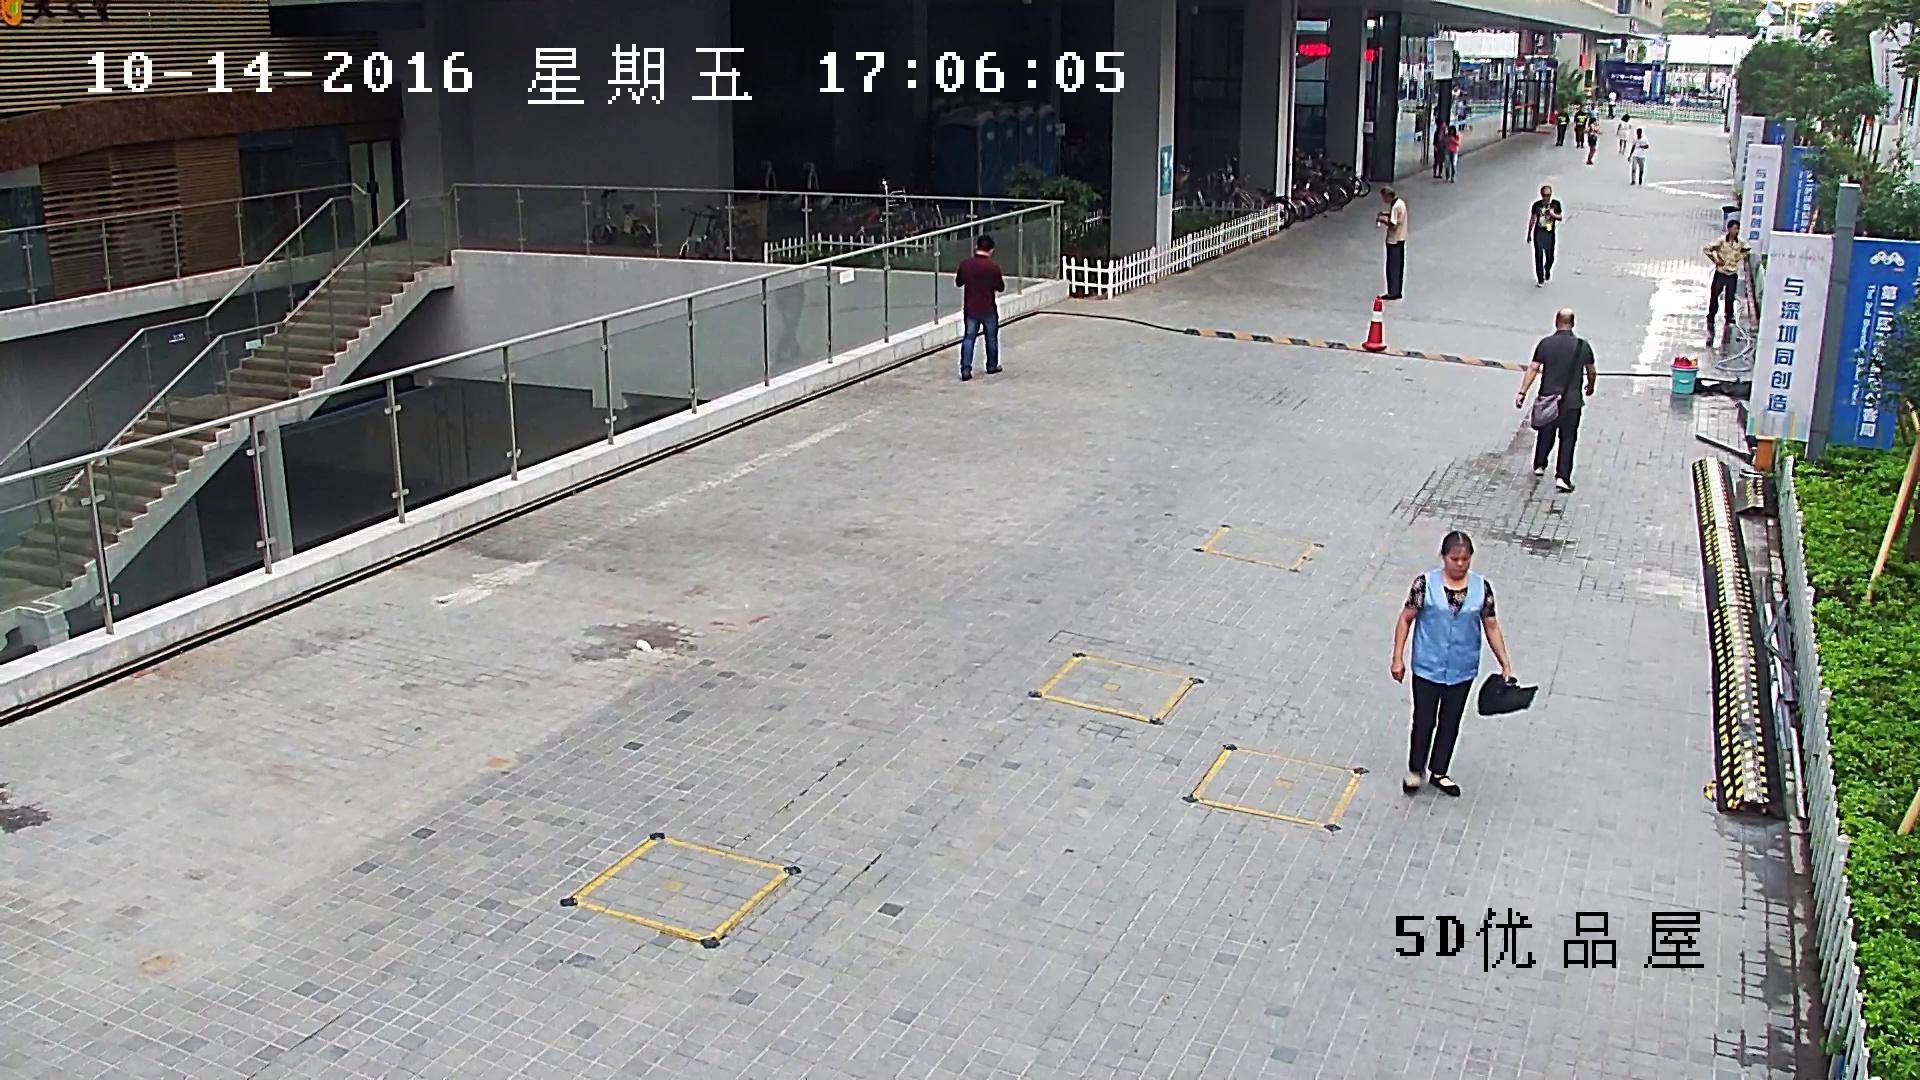person: (1390, 530, 1538, 797), (1515, 308, 1597, 491), (955, 235, 1004, 380), (1703, 218, 1751, 322), (1374, 186, 1408, 300), (1526, 185, 1563, 286), (770, 271, 804, 363), (1627, 127, 1649, 185), (1442, 125, 1460, 183), (1432, 120, 1446, 177), (1582, 117, 1600, 164), (1616, 114, 1630, 154), (1573, 105, 1586, 148), (1554, 112, 1569, 146), (1587, 103, 1598, 126), (1456, 101, 1465, 130), (1608, 91, 1616, 118)
